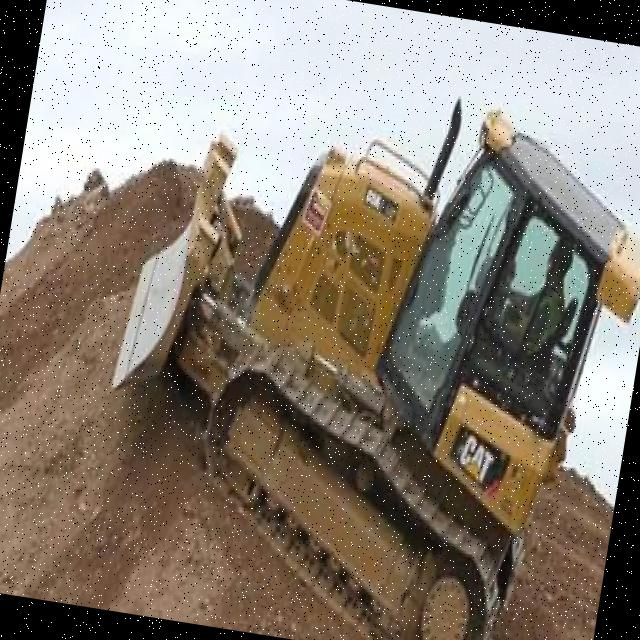Bulldozer: (63, 31, 640, 640)
